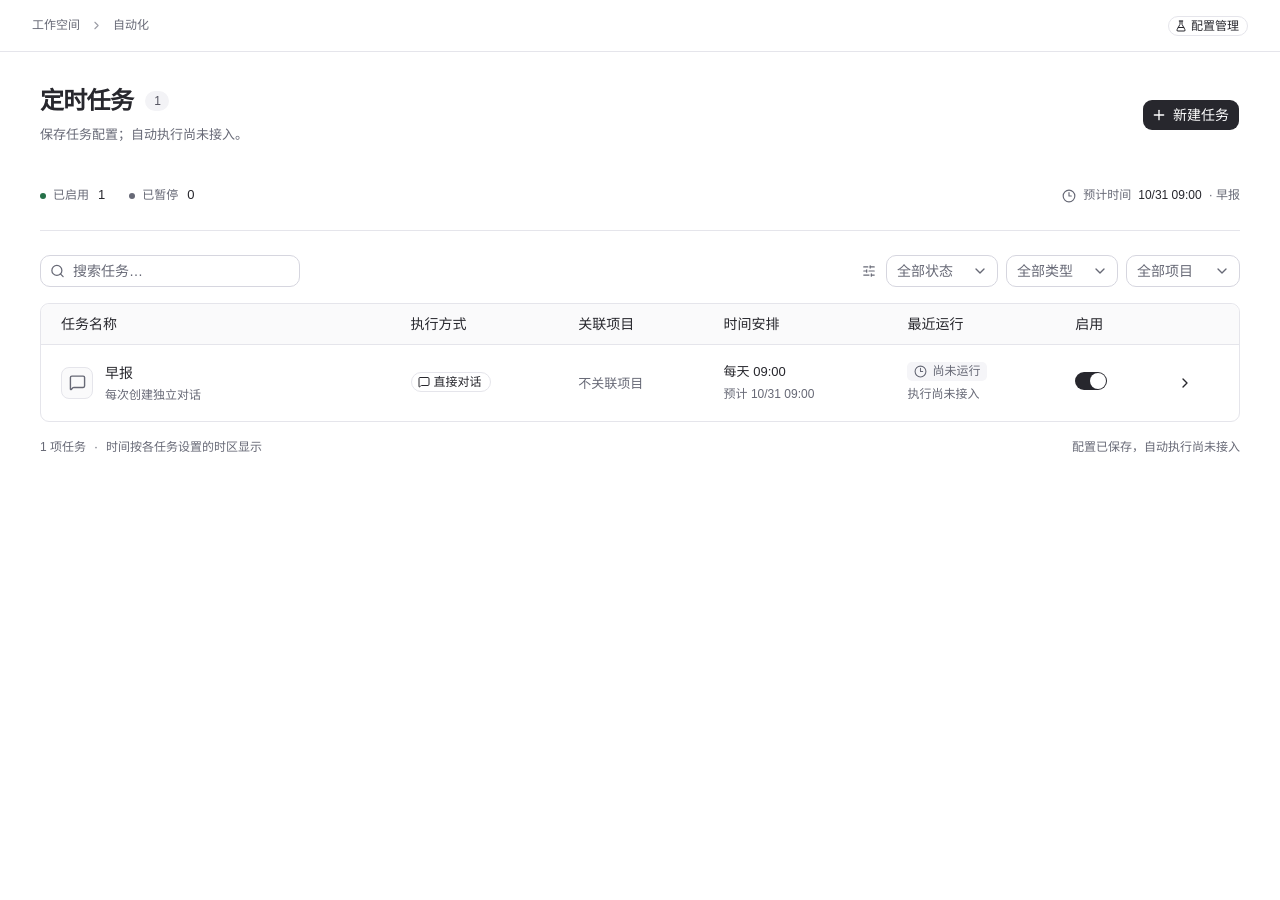
Test: loads persistent configurations and disables unimplemented execution
expect the text "早报" is shown: met, box [105, 365, 133, 381]
Click the button named "查看早报" at (1185, 383), box [1171, 369, 1199, 397]
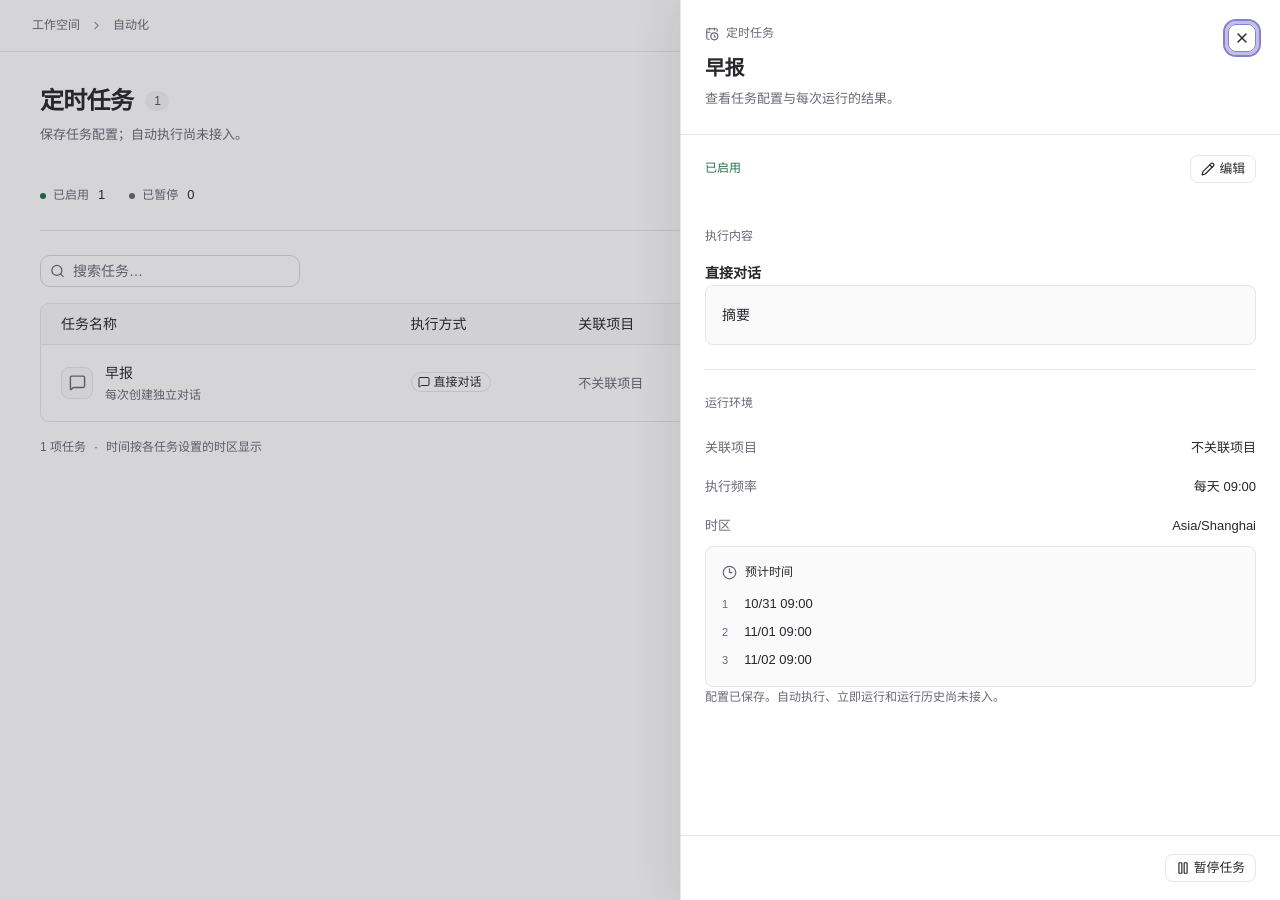
expect the text "配置已保存。自动执行、立即运行和运行历史尚未接入。" is shown: met, box [705, 690, 1005, 704]
